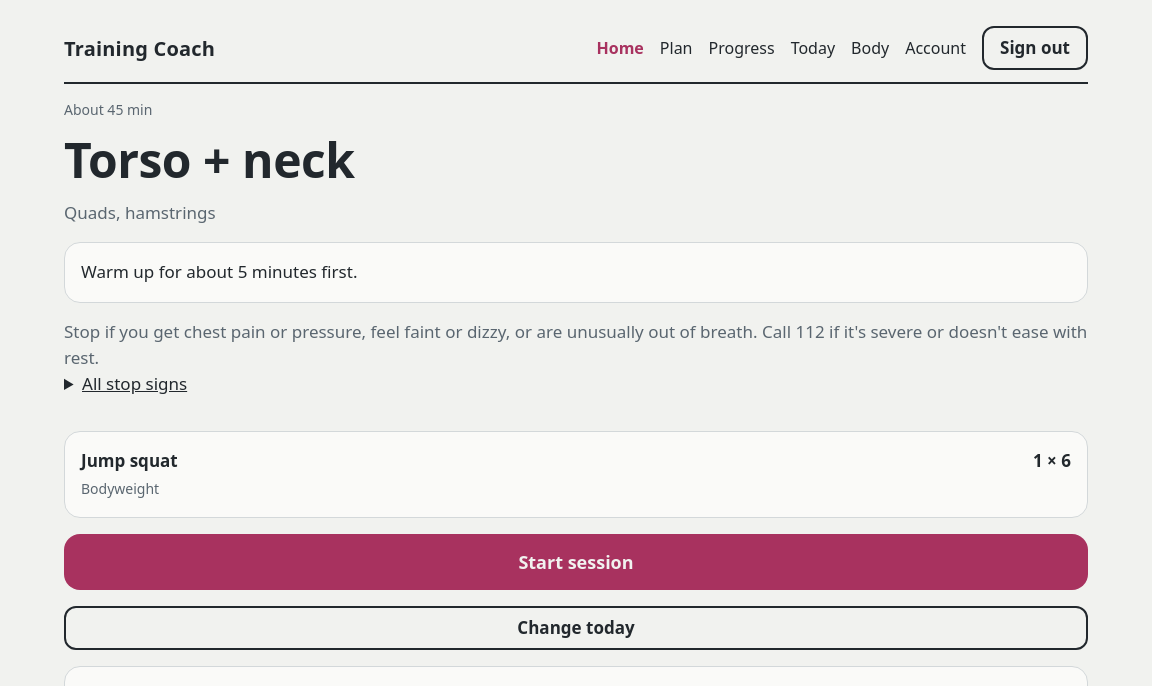
after a pick, Rest and Push wait: the page offers going back to the planned one
What coordinates should you click on to do the following:
click the button "Change today"
I would click on:
 (576, 628)
Its box is [64,606,1088,650].
(page scrolled)
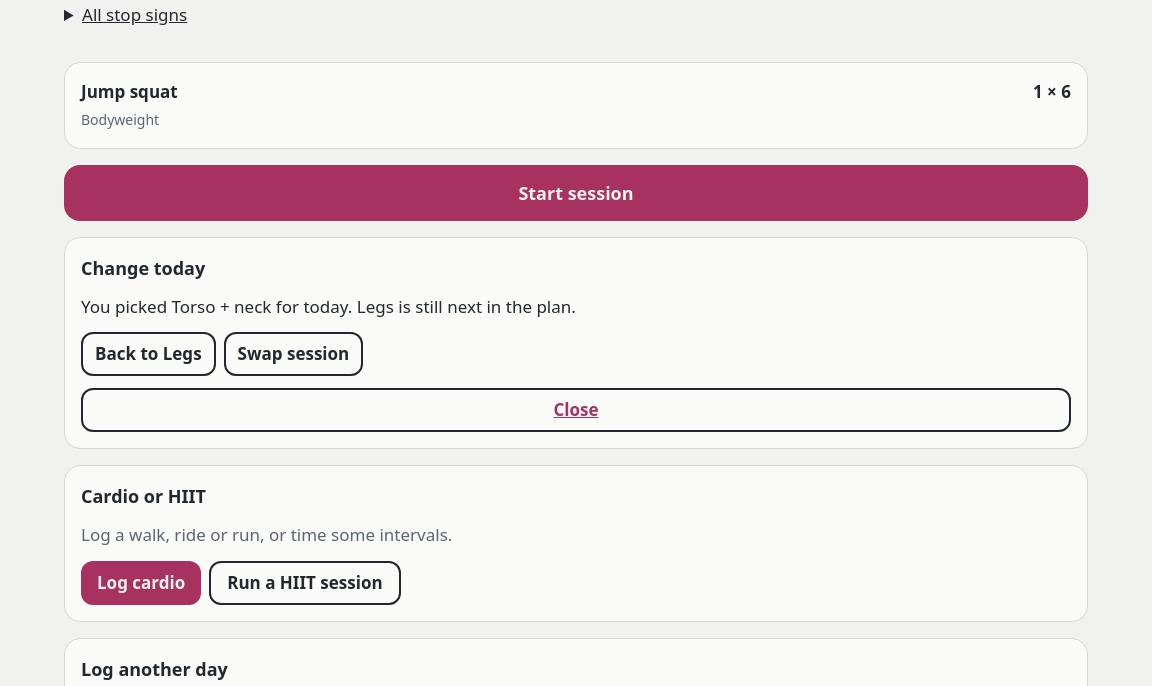
Expected: the button "Rest today" is not shown
Now the text "You picked Torso + neck for today. Legs is still next in the plan." is shown, box [81,295,576,318]
Now the button "Swap session" is shown, box [224,332,363,376]
What coordinates should you click on to do the following:
click the button "Back to Legs"
I would click on:
 (148, 354)
Its box is [81,332,216,376].
(page scrolled)
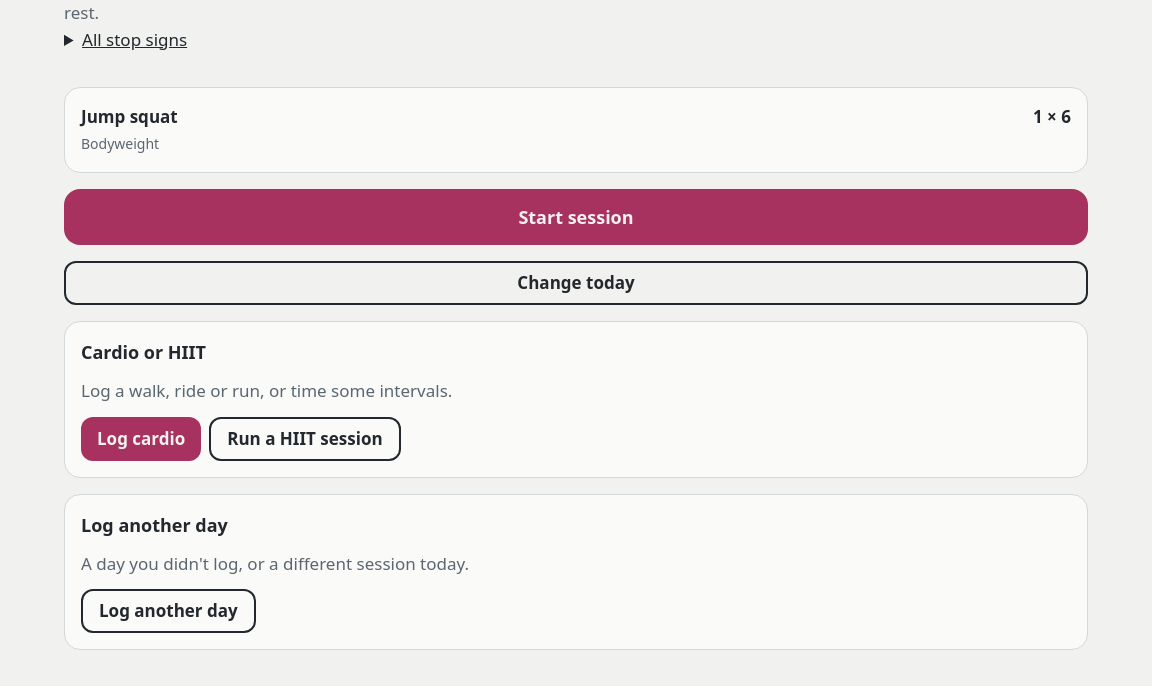
What coordinates should you click on to do the following:
click the button "Change today"
I would click on:
 (576, 283)
Its box is [64,261,1088,305].
(page scrolled)
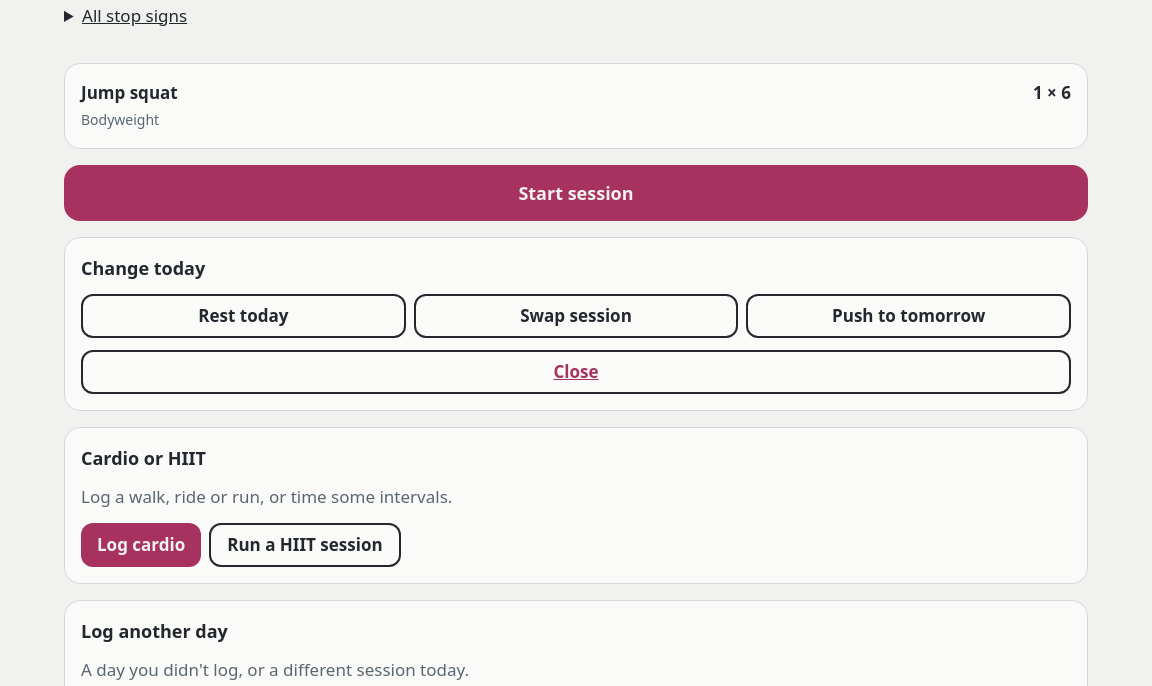
Now the button "Rest today" is shown, box [81,294,406,338]
